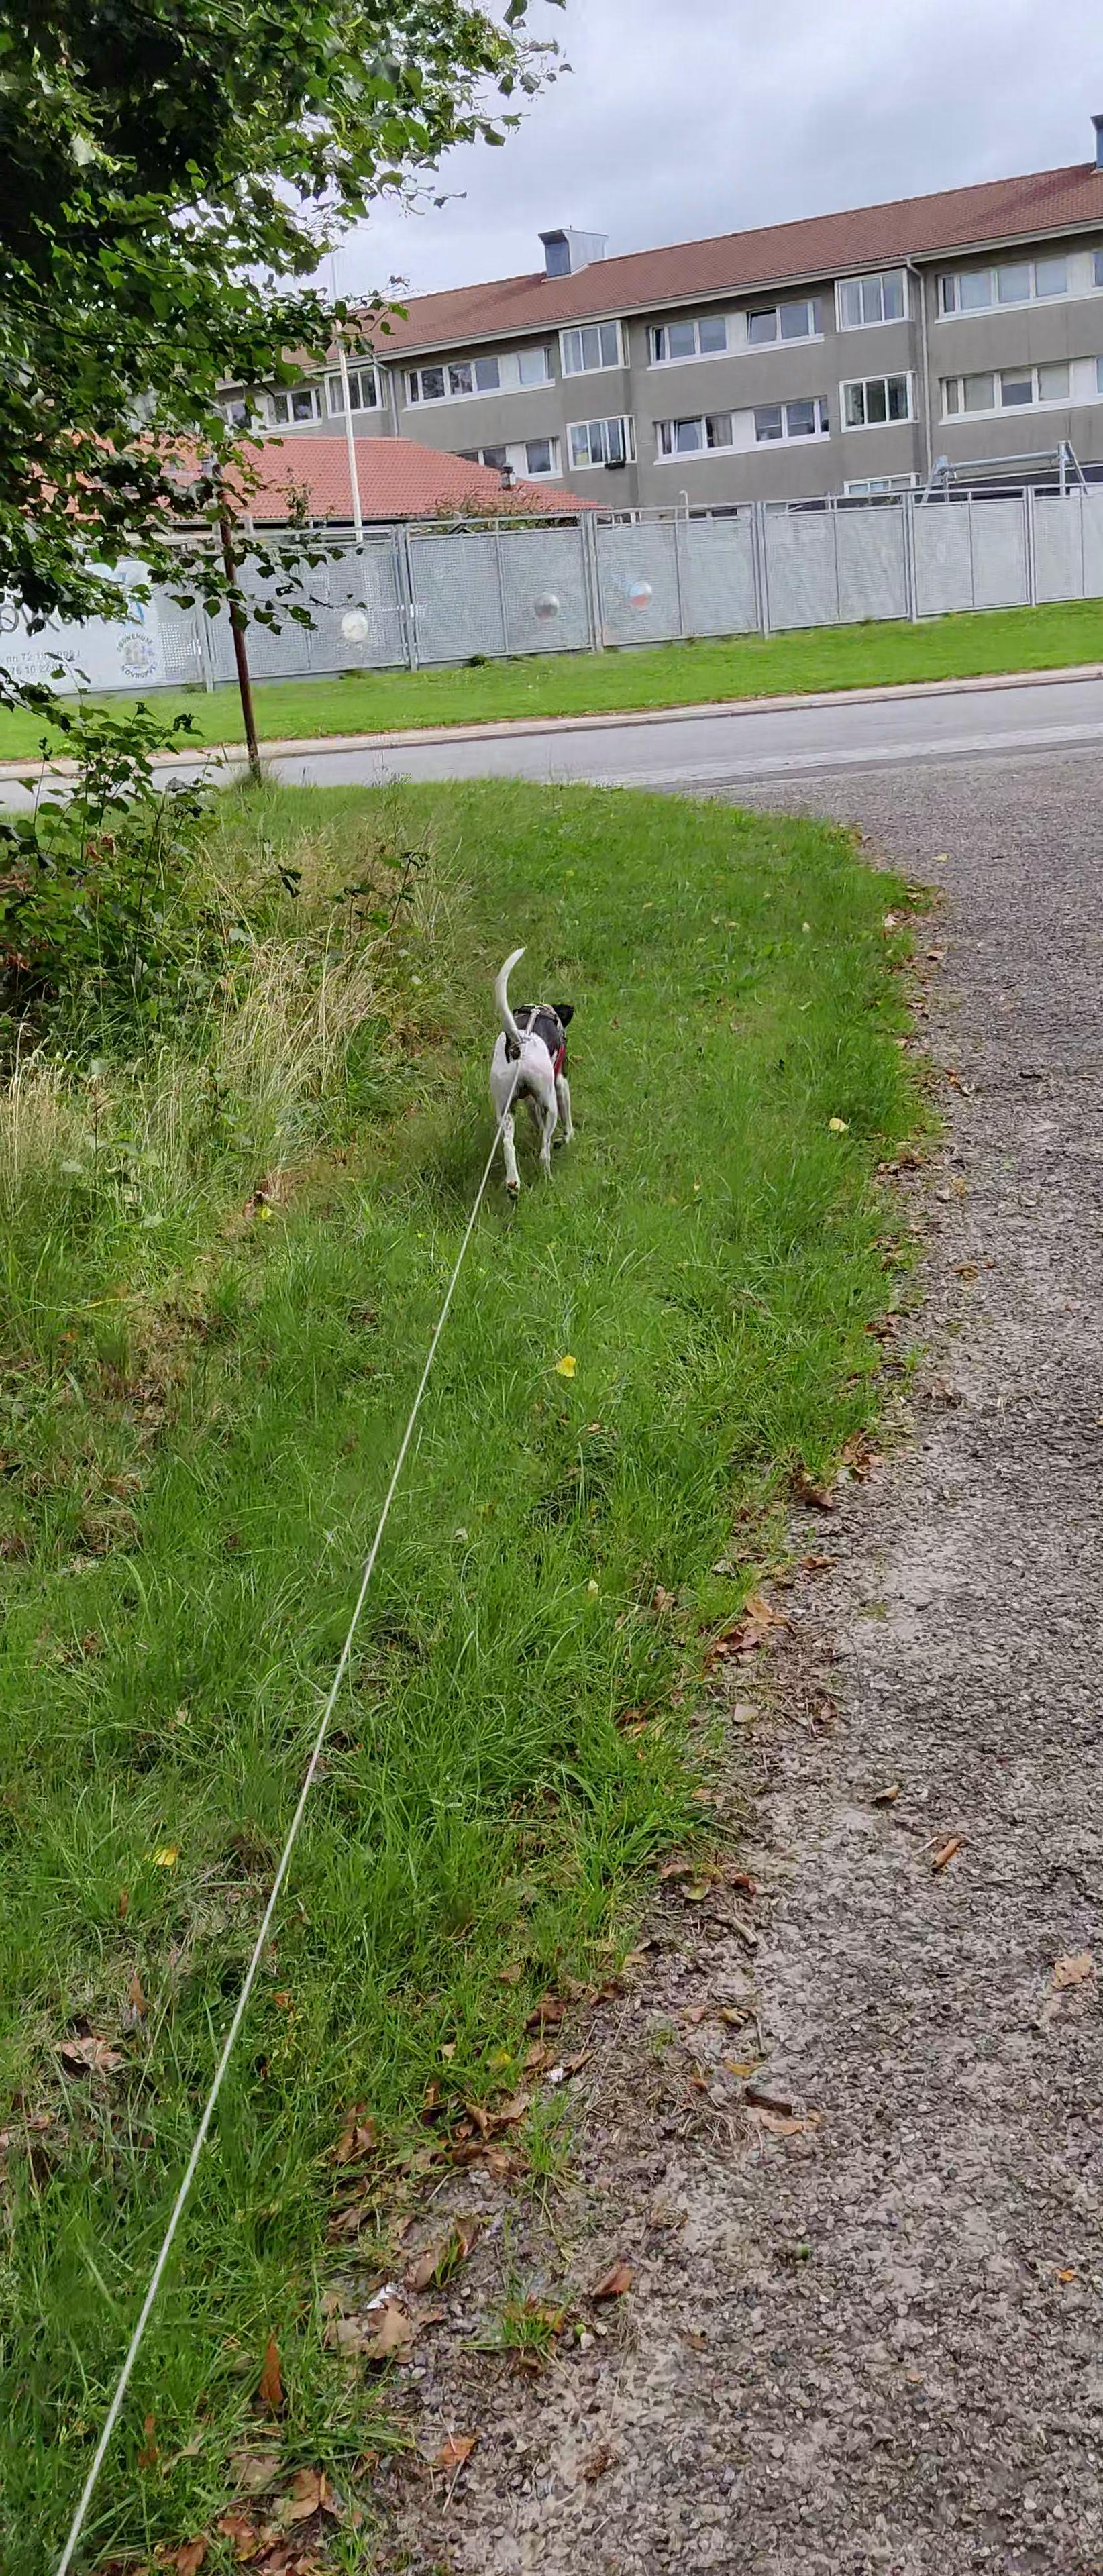Dog: (482, 945, 585, 1203)
